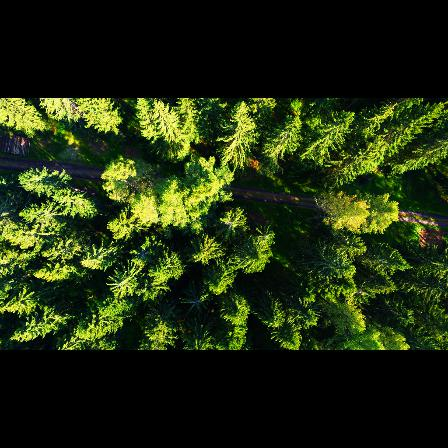Sick: (132, 244, 153, 266)
